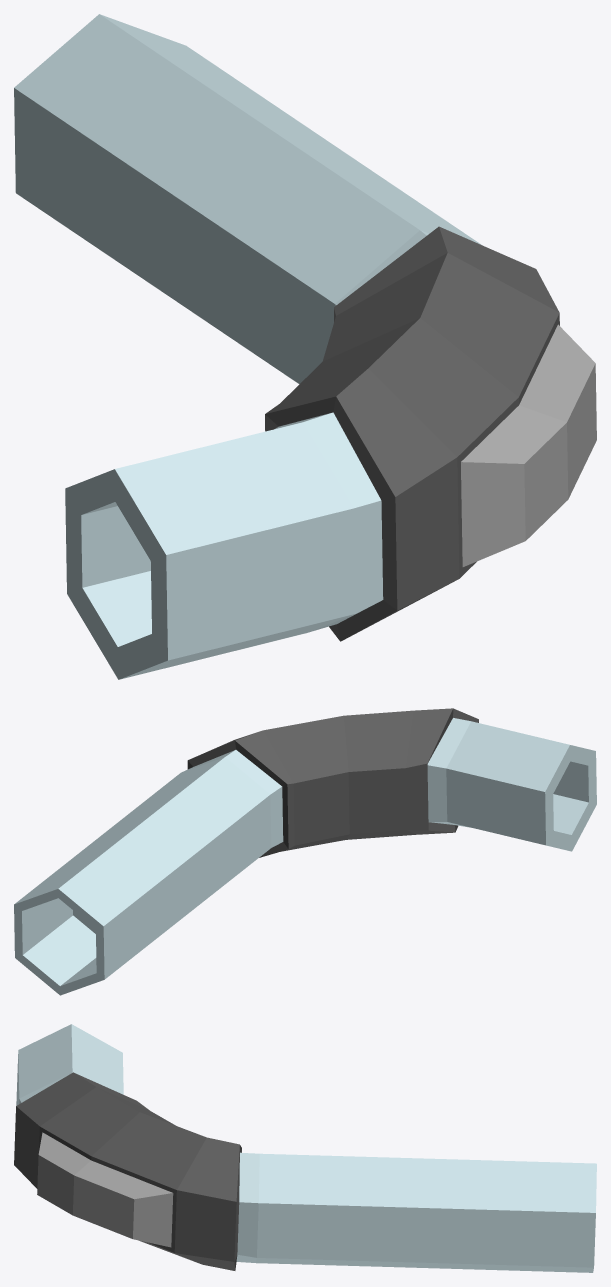
File: Metallic part 6.fbx
3 views of the same model, one above another, from view 1: azimuth 30°, elevation 25°; view 2: azimuth 150°, elevation 25°; view 3: azimuth 270°, elevation 25° (orthographic). The views are drawn at different scales.
Parts seen in each view (by area): view 1: Metallic part 6; view 2: Metallic part 6; view 3: Metallic part 6.
Part boxes in pixels (<box>): Metallic part 6: <box>14,14,596,679</box>; Metallic part 6: <box>14,708,596,995</box>; Metallic part 6: <box>14,1024,596,1272</box>.
Bounding box in the file's own units: 6.16 × 2.58 × 10.21.
